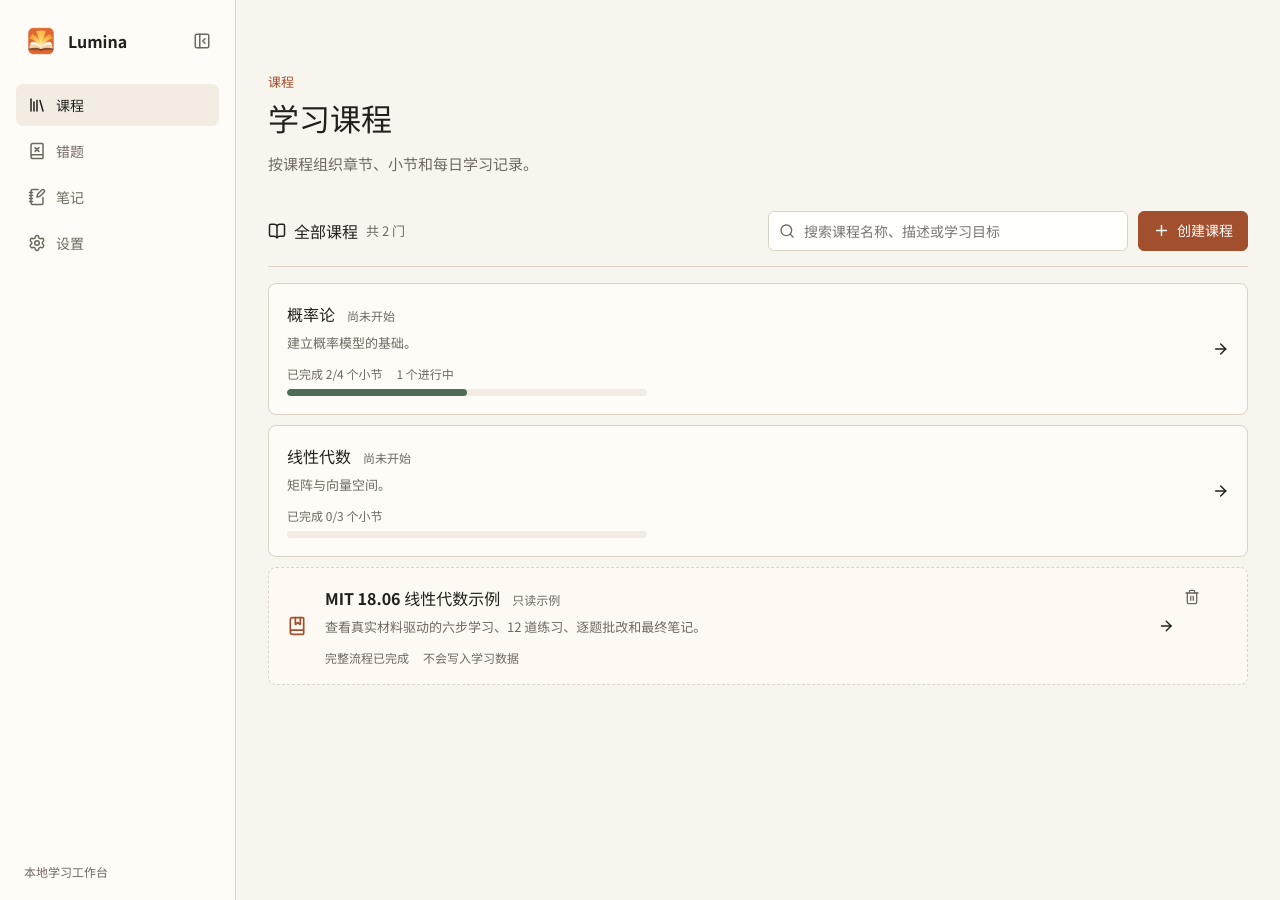
Test: App › filters courses and shows real section progress
Check: the text "已完成 2/4 个小节" is shown, box [287,365,382,382]
Check: the text "1 个进行中" is shown, box [396,365,454,382]
Type "线性变换" into the search field labelled "搜索课程" at (948, 231), box [768,211,1128,251]
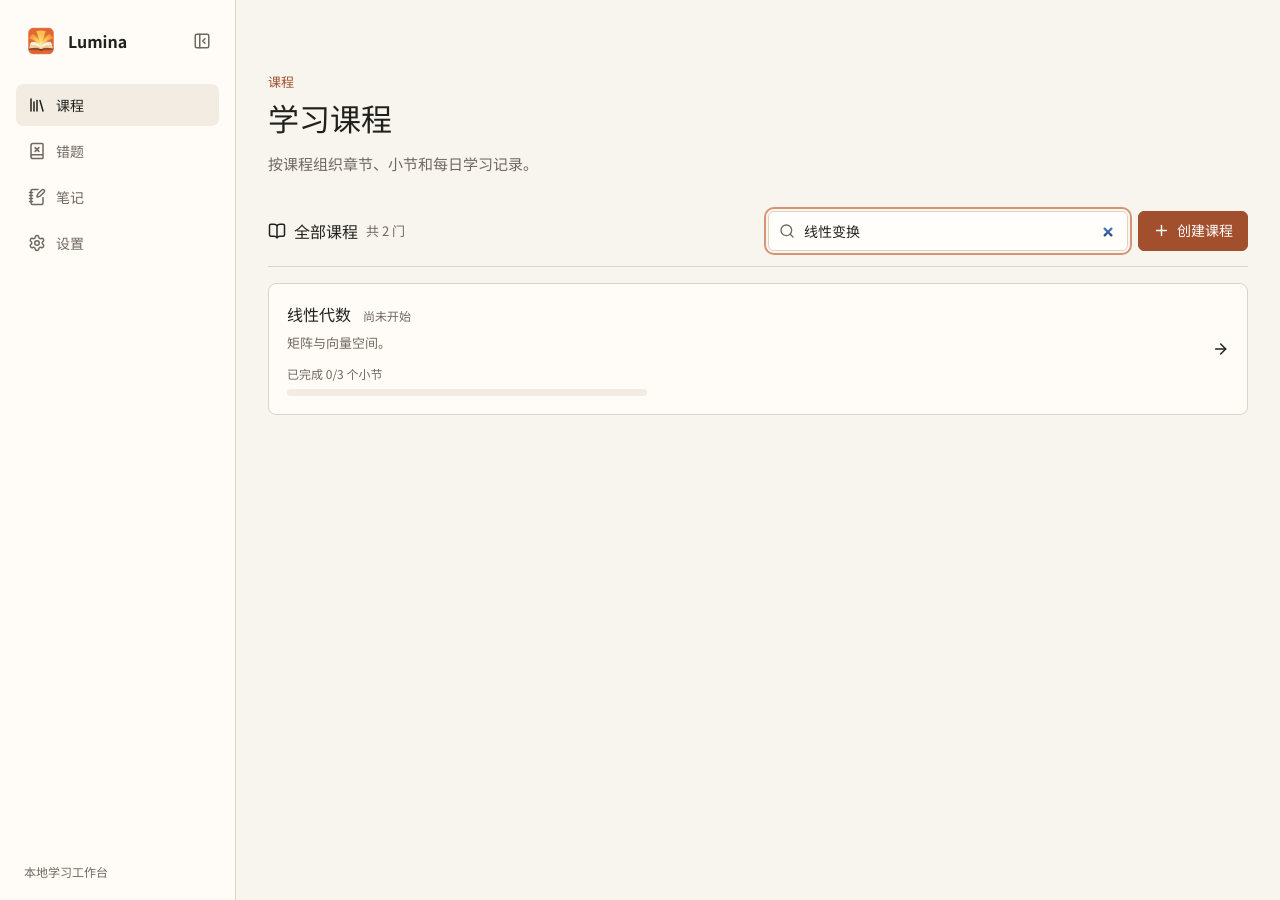
Check: the heading "线性代数" is shown, box [287,302,351,326]
Check: the link "概率论" is gone
